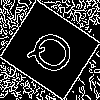Q: (24, 24, 85, 85)
